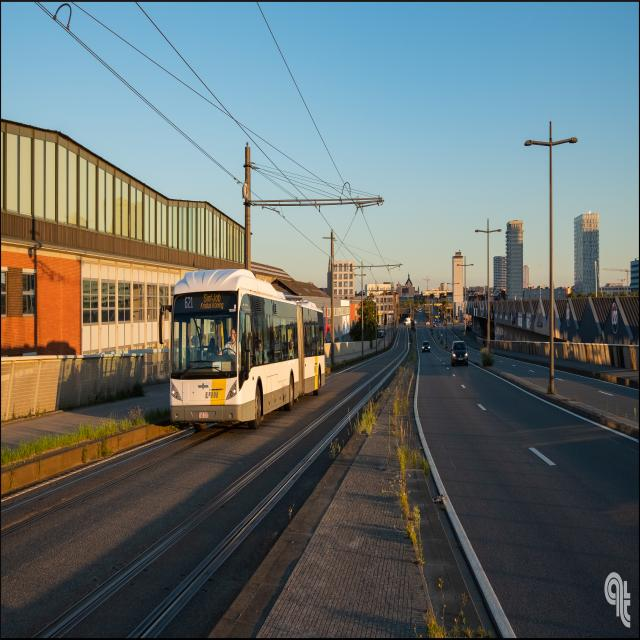bus-number: (184, 296, 193, 309)
